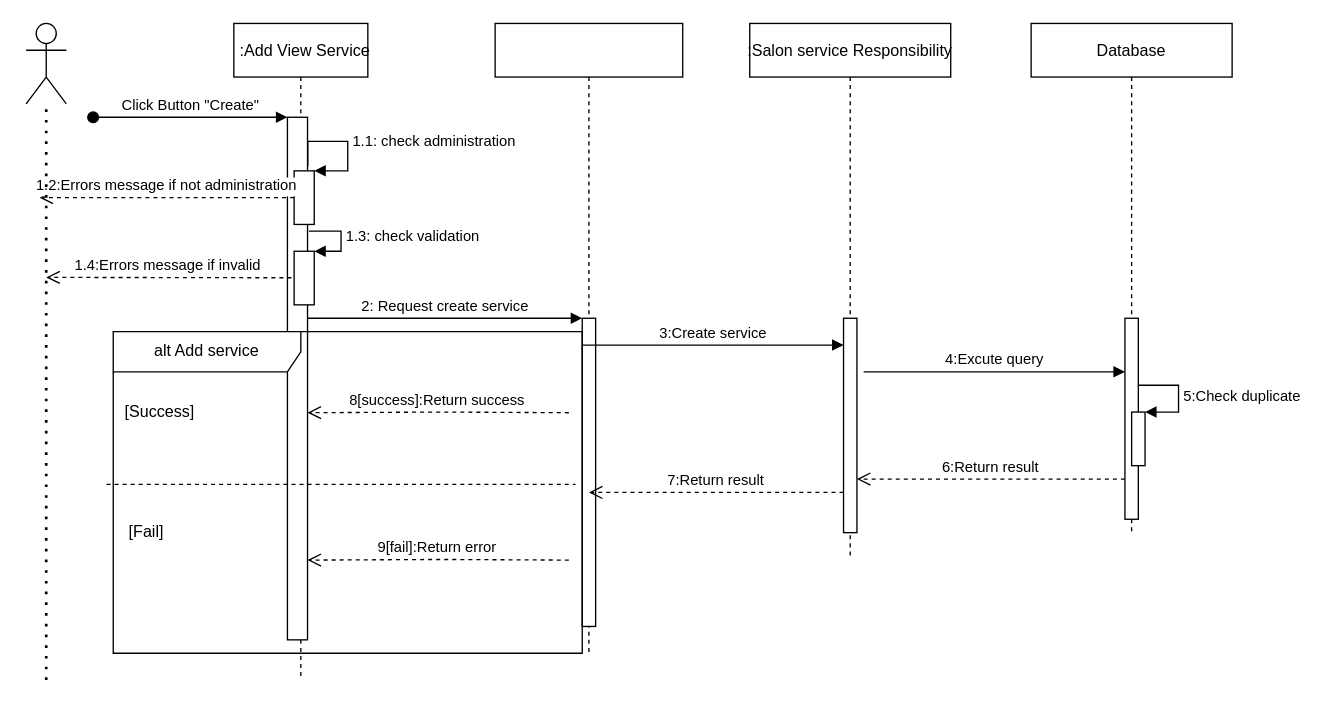
The diagram is 1324 pixels wide and 706 high, and some of its shapes have lost their labels. Here are the shapes that lost their labels. From the top down, the box of each, then its label:
(25, 22, 66, 104): Admin
(494, 22, 683, 653): :Salon service Controller
